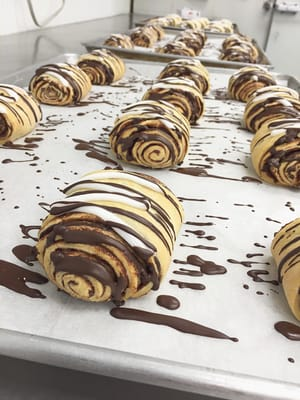pasta: (61, 169, 184, 244), (269, 215, 300, 326), (0, 83, 42, 146)
